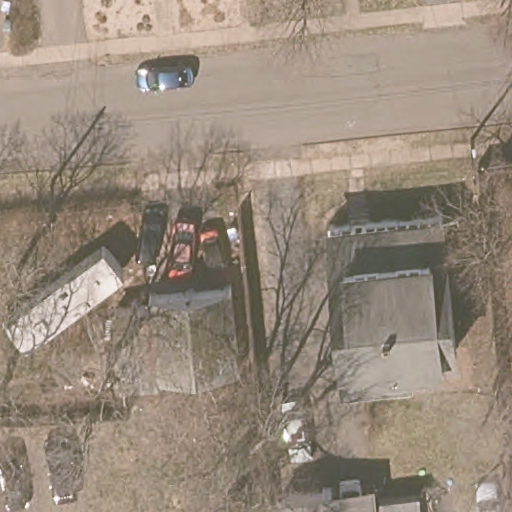DT: (459, 138, 491, 203), (38, 177, 67, 233)
